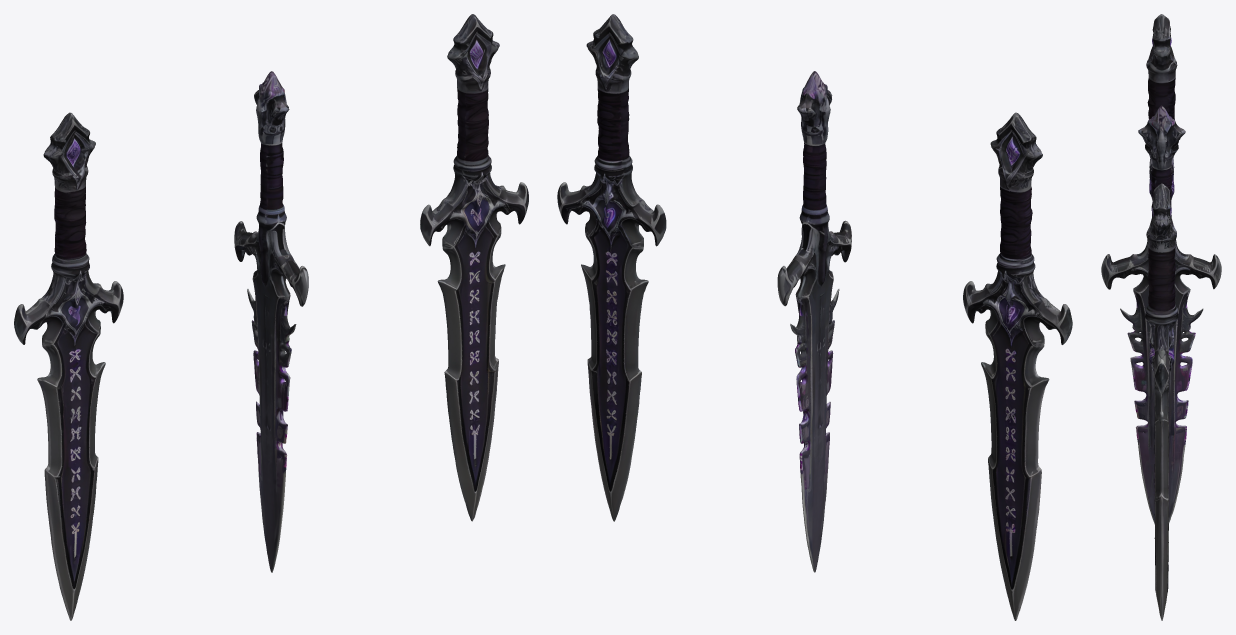
The model's file is rune-dagger.glb.
3 views of the same model, side by side, from view 1: azimuth 30°, elevation 25°; view 2: azimuth 150°, elevation 25°; view 3: azimuth 270°, elevation 25° (orthographic). The views are drawn at different scales.
Parts seen in each view (by area): view 1: tripo_node_fba118e5; view 2: tripo_node_fba118e5; view 3: tripo_node_fba118e5.
Boxes of the visible parts, <box> form: tripo_node_fba118e5: <box>14,14,528,620</box>; tripo_node_fba118e5: <box>557,14,1072,620</box>; tripo_node_fba118e5: <box>1101,14,1221,620</box>.
Bounding box in the file's own units: 99.88 × 94.47 × 23.44.
1 material, 1 textured.
